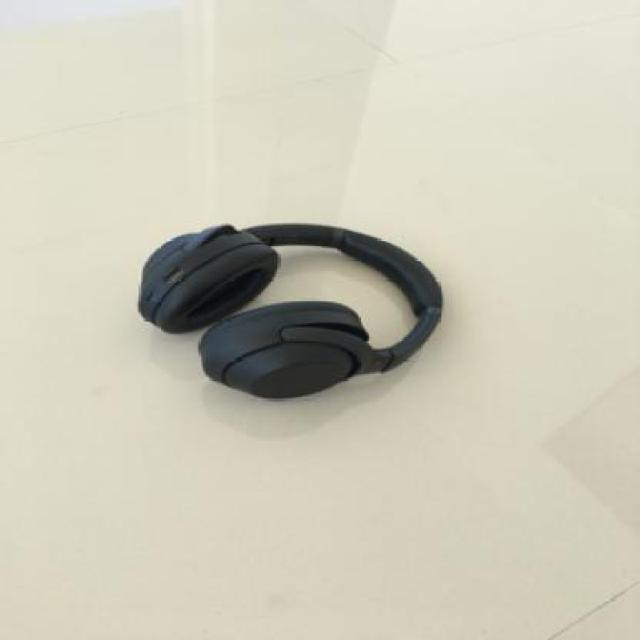earphone: (150, 148, 467, 402)
